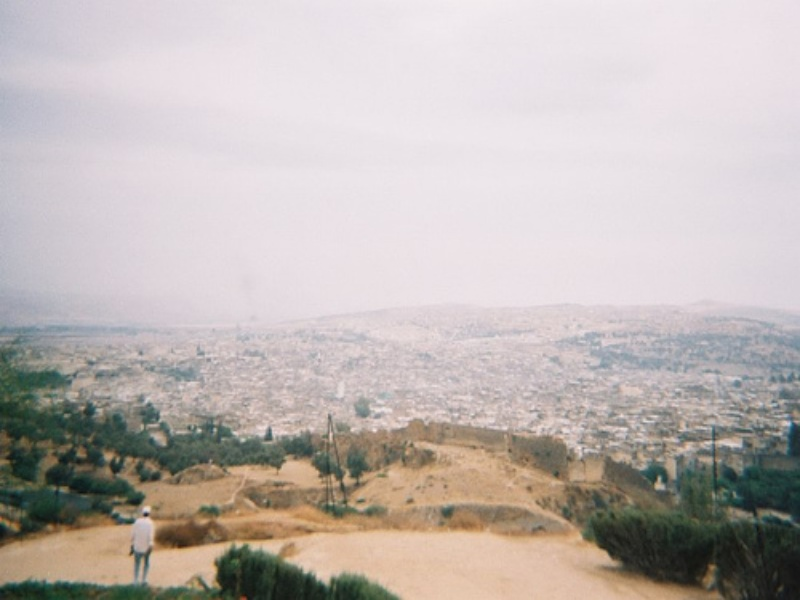person: (129, 506, 155, 582)
